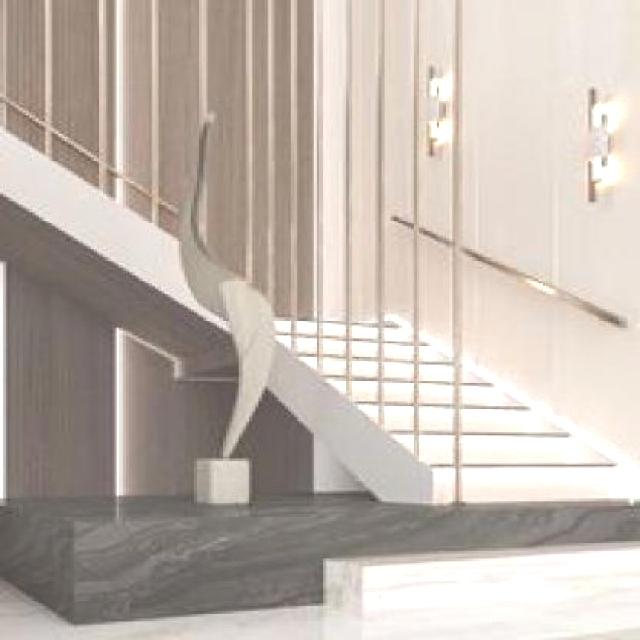stair: (191, 149, 640, 617)
